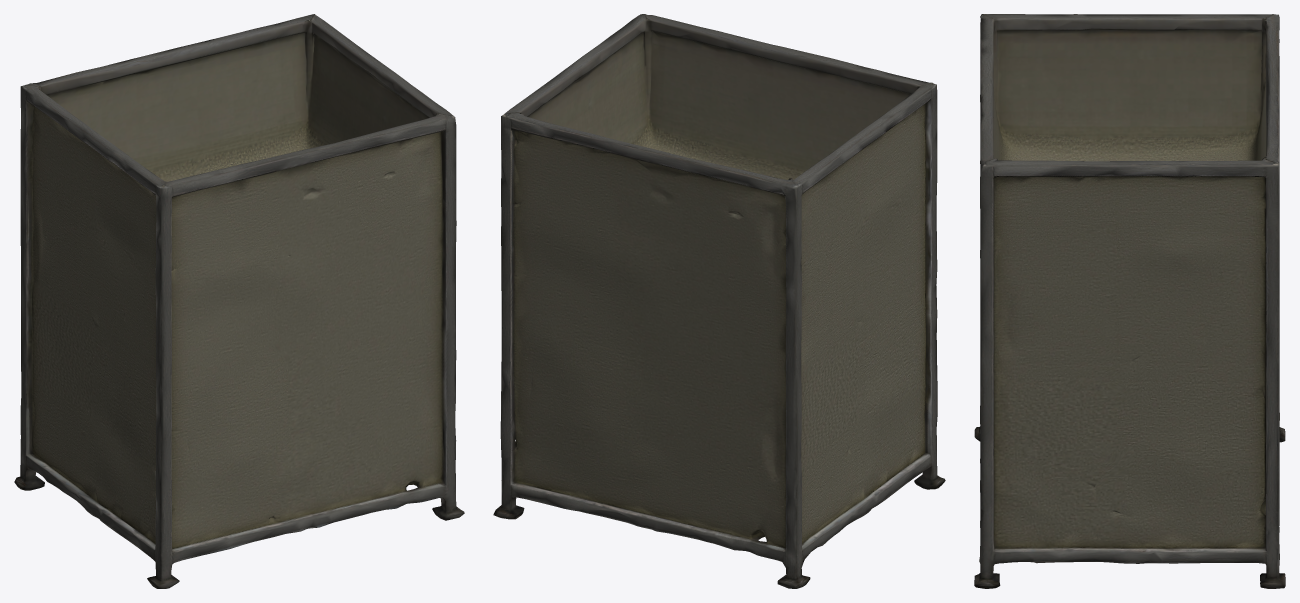
3 views of the same model, side by side, from view 1: azimuth 30°, elevation 25°; view 2: azimuth 150°, elevation 25°; view 3: azimuth 270°, elevation 25° (orthographic). The views are drawn at different scales.
Parts seen in each view (by area): view 1: tripo_node_141a21e6-10ef-4e7e-9e81-cd449085686d; view 2: tripo_node_141a21e6-10ef-4e7e-9e81-cd449085686d; view 3: tripo_node_141a21e6-10ef-4e7e-9e81-cd449085686d.
Boxes of the visible parts, x1,y1,x2,y2 form: tripo_node_141a21e6-10ef-4e7e-9e81-cd449085686d: (14, 14, 464, 588); tripo_node_141a21e6-10ef-4e7e-9e81-cd449085686d: (493, 14, 945, 588); tripo_node_141a21e6-10ef-4e7e-9e81-cd449085686d: (974, 14, 1285, 588).
Size of the model in its own units: 0.7986 by 1 by 0.6677.
Materials: 1 (1 with a texture image).
